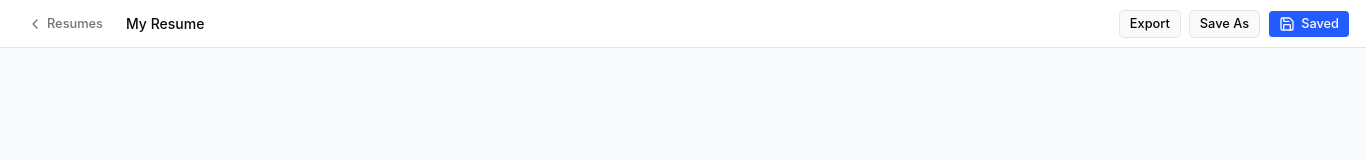
Test: EditorToolbar — handleNameBlur (lines 62-73) › clears name error when user types after an error
The image size is (1366, 160).
Clear the field named "Resume name": (616, 24) [122,14,1111,34]
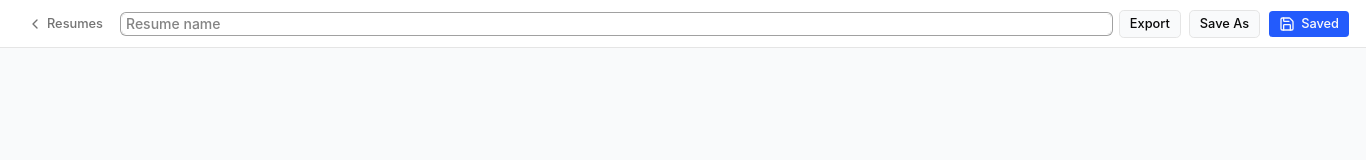
Leave the field labelled "Resume name", box [122,14,1111,34]
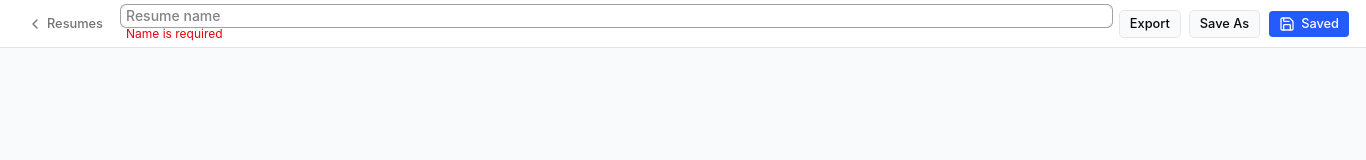
Check: the message reads "Name is required", box [126,26,223,40]
# Type something to clear the error
In the field labelled "Resume name": (616, 16) [122,6,1111,26], type "a"
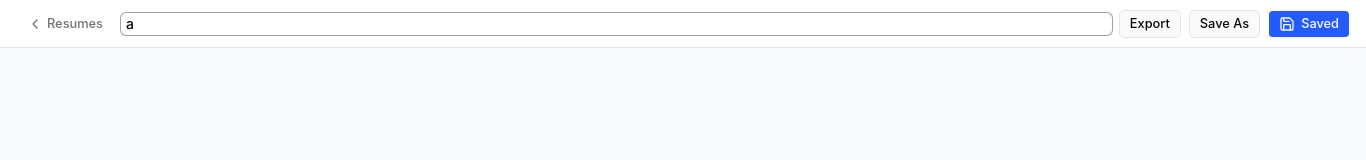
Check: the message "Name is required" is gone
